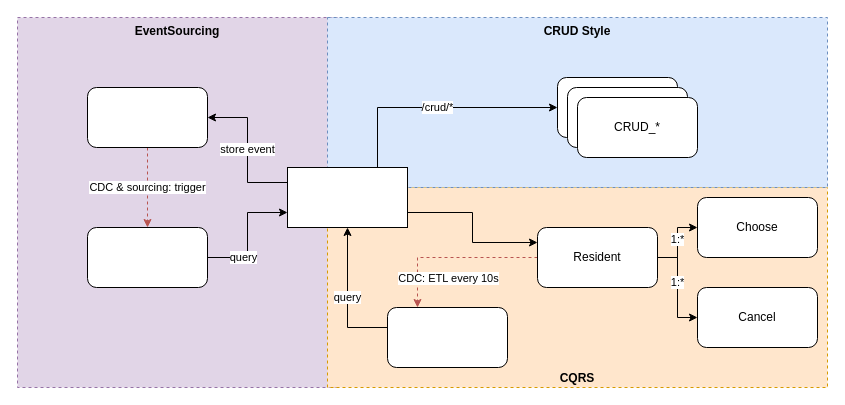
Image size: 845x405. Some labels were removed from this diagram. The centre of each missing label's shape, as x and y in pixels:
<App> 1922: point 347,197
<ReadModel> ResidentInfo: point 147,257
<ReadModel> ResidentProfile: point 447,337
EventStore: point 147,117
